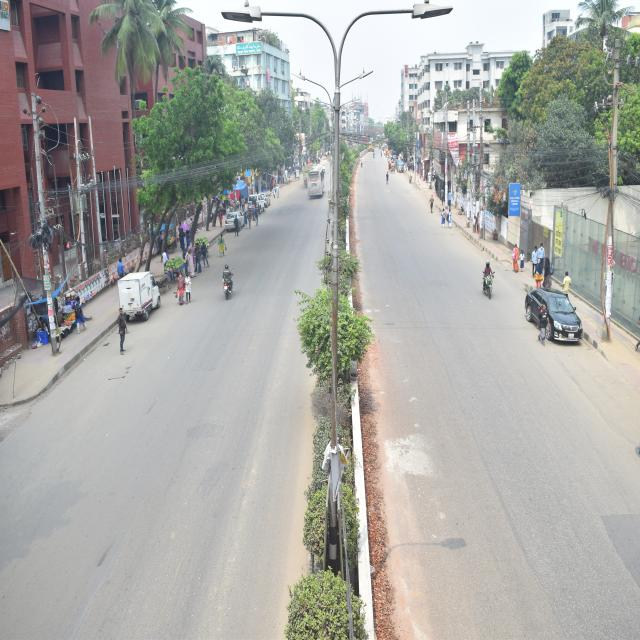bus: (306, 163, 328, 205), (302, 156, 317, 186)
car: (519, 268, 587, 362), (221, 201, 252, 241), (245, 192, 267, 219), (254, 194, 276, 210)
motorbike: (474, 257, 505, 320), (219, 261, 246, 305)
pickup-van: (115, 269, 178, 336)
